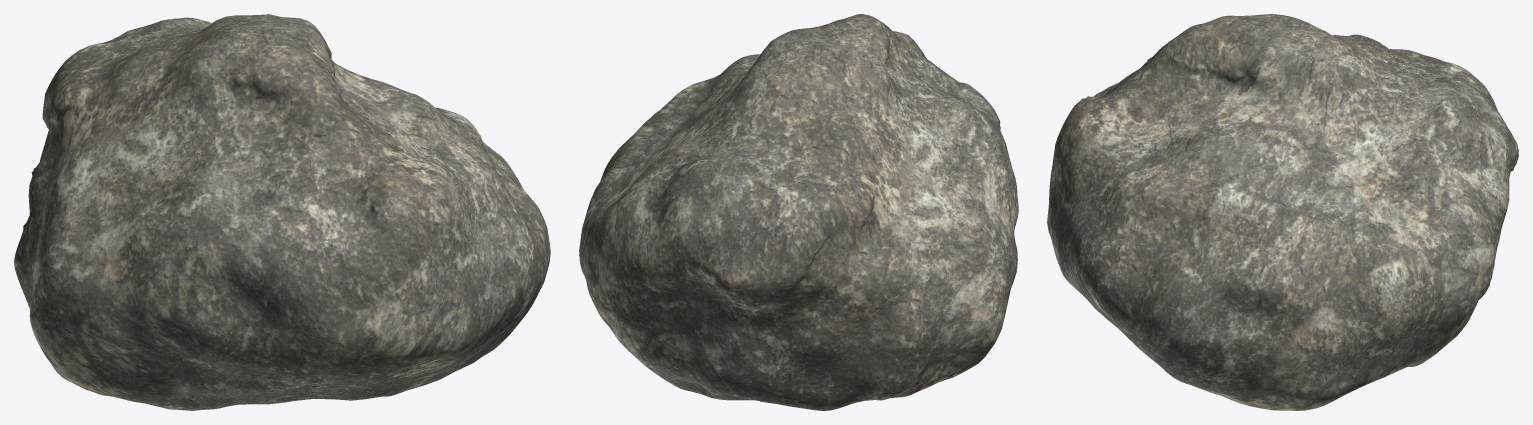
File: Rock 03.obj
3 renders of one model, left to right at view 1: azimuth 30°, elevation 25°; view 2: azimuth 150°, elevation 25°; view 3: azimuth 270°, elevation 25°, orthographic. The views are drawn at different scales.
Parts seen in each view (by area): view 1: Rock 03; view 2: Rock 03; view 3: Rock 03.
Part boxes in pixels (left/top/right/bottom): Rock 03: left=14, top=14, right=550, bottom=410; Rock 03: left=579, top=14, right=1018, bottom=410; Rock 03: left=1047, top=14, right=1518, bottom=410.
Bounding box in the file's own units: 126 × 98.01 × 132.
